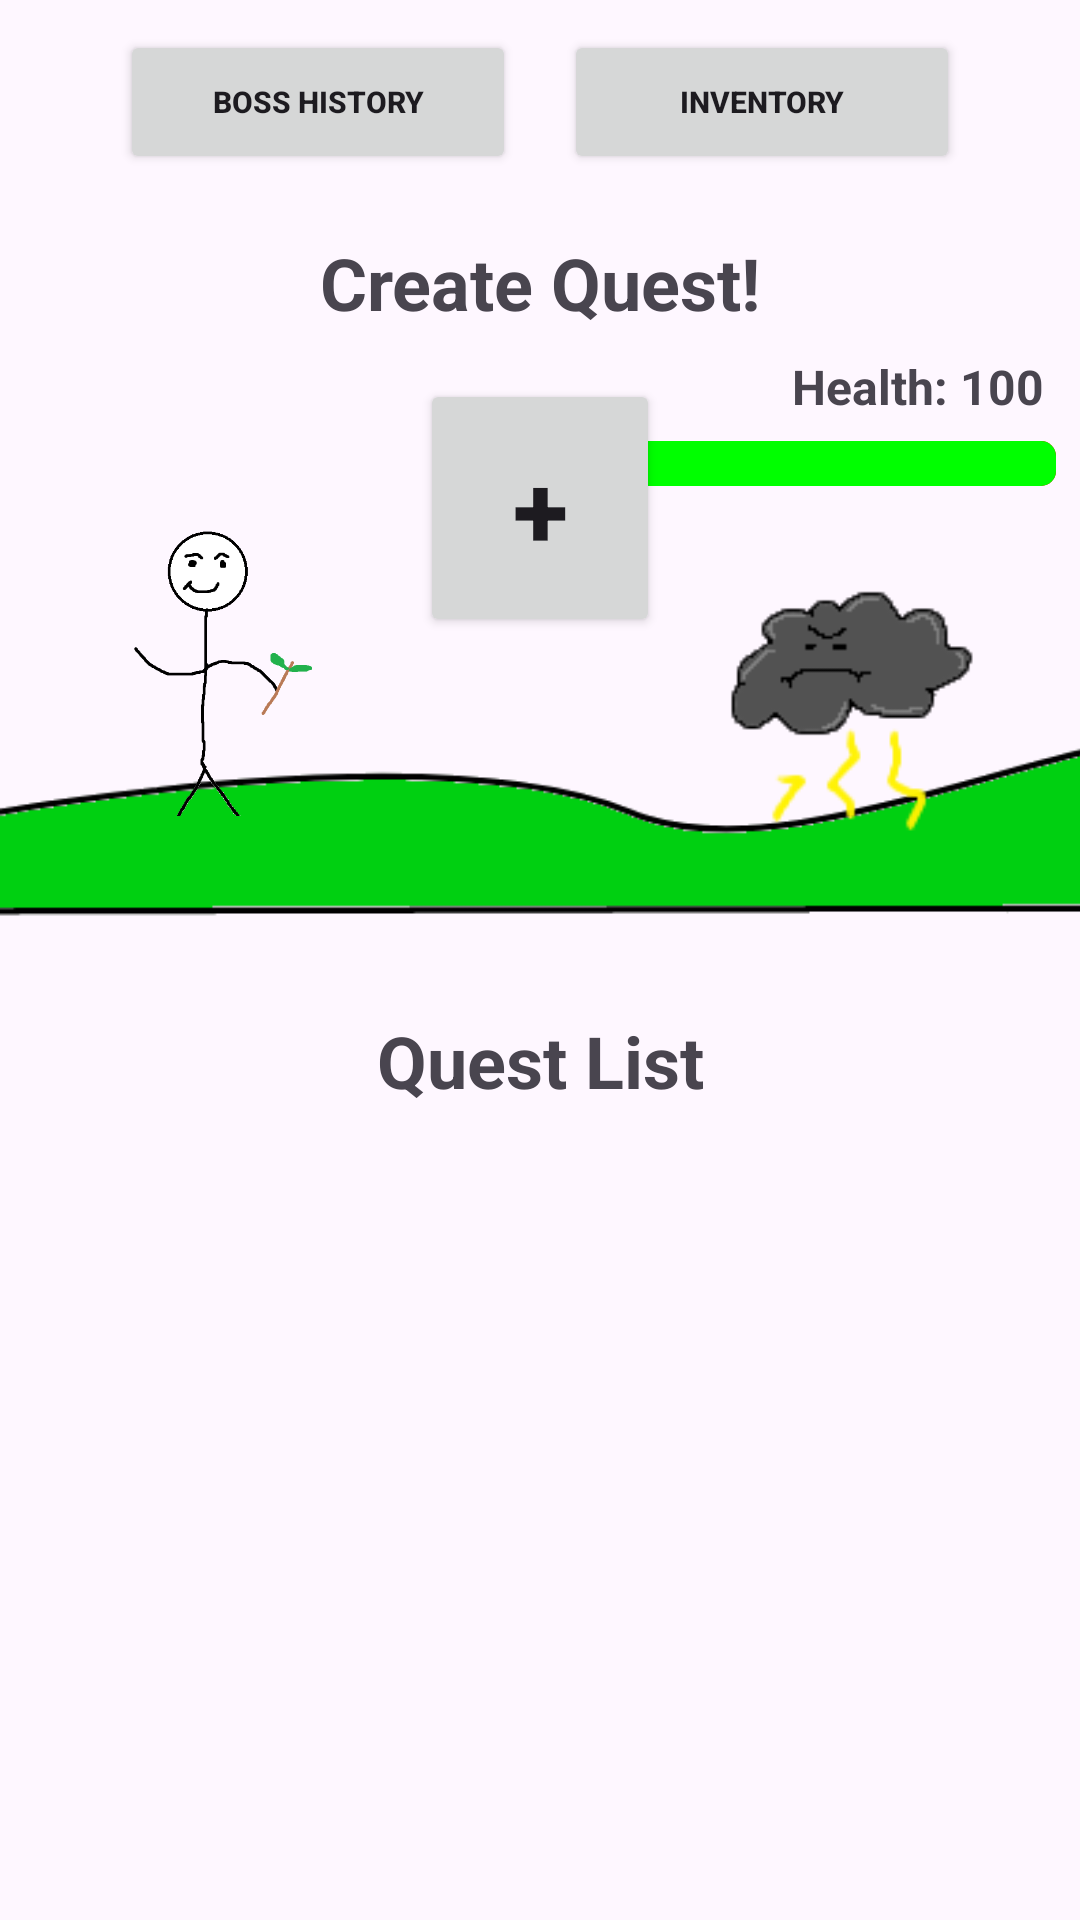

Icons on this 1080px x 1920px Android screen, each with the point to tap as [x,y]:
Enemy avatar: [852,663]
Player avatar: [228,673]
